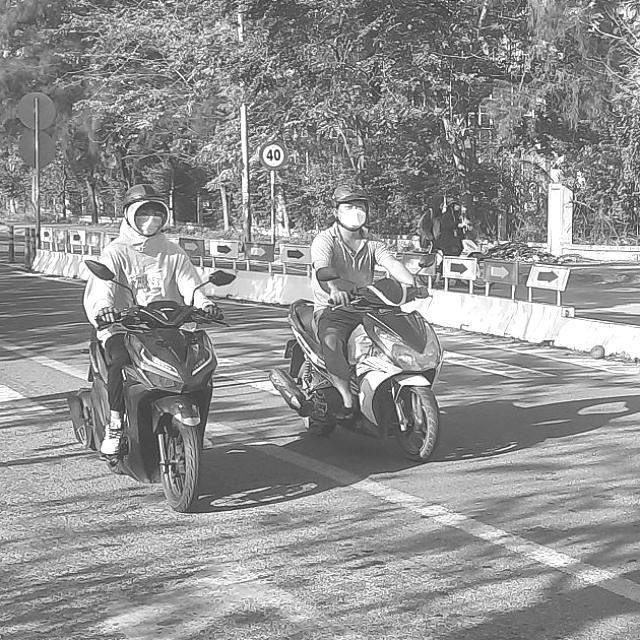Helmet: (118, 182, 177, 240), (330, 180, 370, 232)
